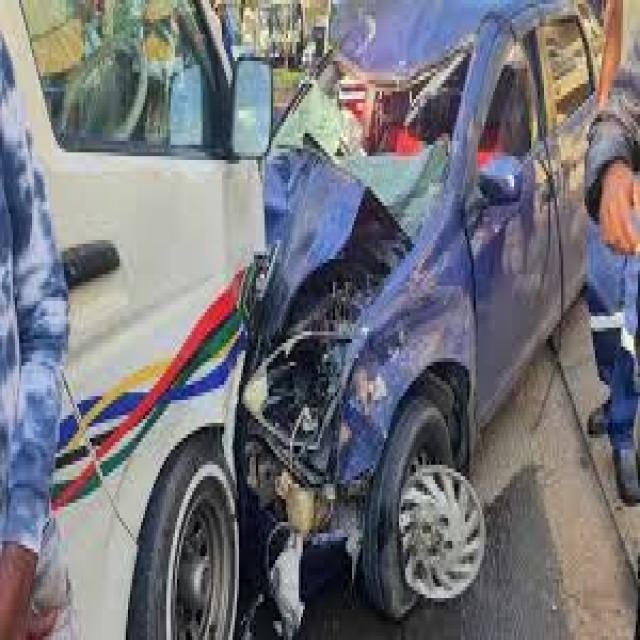accident: (121, 23, 547, 617)
